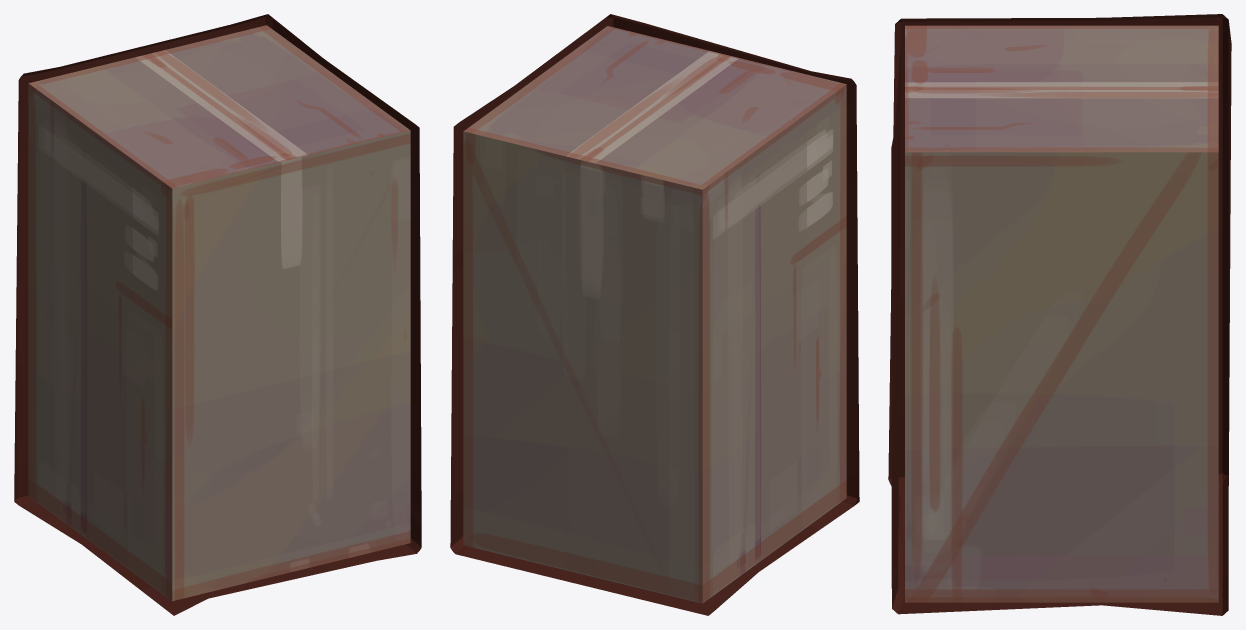
3 views of the same model, side by side, from view 1: azimuth 30°, elevation 25°; view 2: azimuth 150°, elevation 25°; view 3: azimuth 270°, elevation 25° (orthographic). The views are drawn at different scales.
Visible parts, largest first — view 1: box_04; view 2: box_04; view 3: box_04.
Boxes of the visible parts, box(x1,y1,x2,y2) form: box_04: box(14, 14, 421, 615); box_04: box(450, 14, 859, 615); box_04: box(888, 14, 1231, 615).
Size of the model in its own units: 0.9826 by 1.55 by 1.02.
